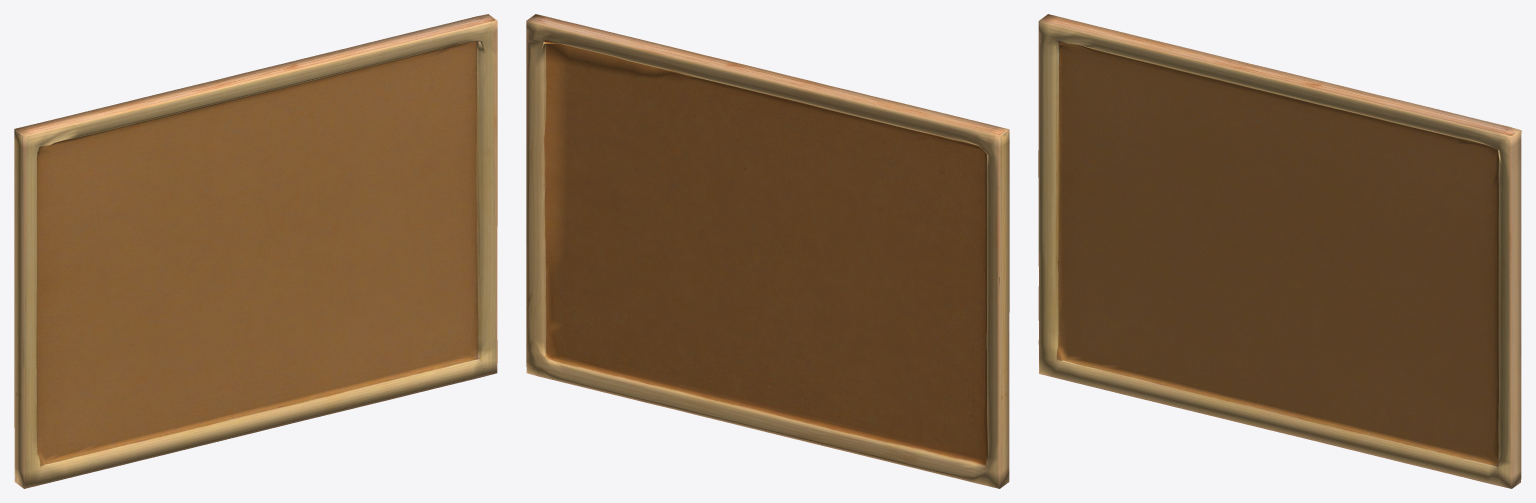
File: board.fbx
3 views of the same model, side by side, from view 1: azimuth 30°, elevation 25°; view 2: azimuth 150°, elevation 25°; view 3: azimuth 330°, elevation 25° (orthographic).
Visible parts, largest first — view 1: input; view 2: input; view 3: input.
Part boxes in pixels (left/top/right/bottom): input: left=14, top=14, right=497, bottom=488; input: left=526, top=14, right=1009, bottom=488; input: left=1038, top=14, right=1521, bottom=488.
Bounding box in the file's own units: 200 × 142 × 7.08.
Materials: 1 (1 with a texture image).
